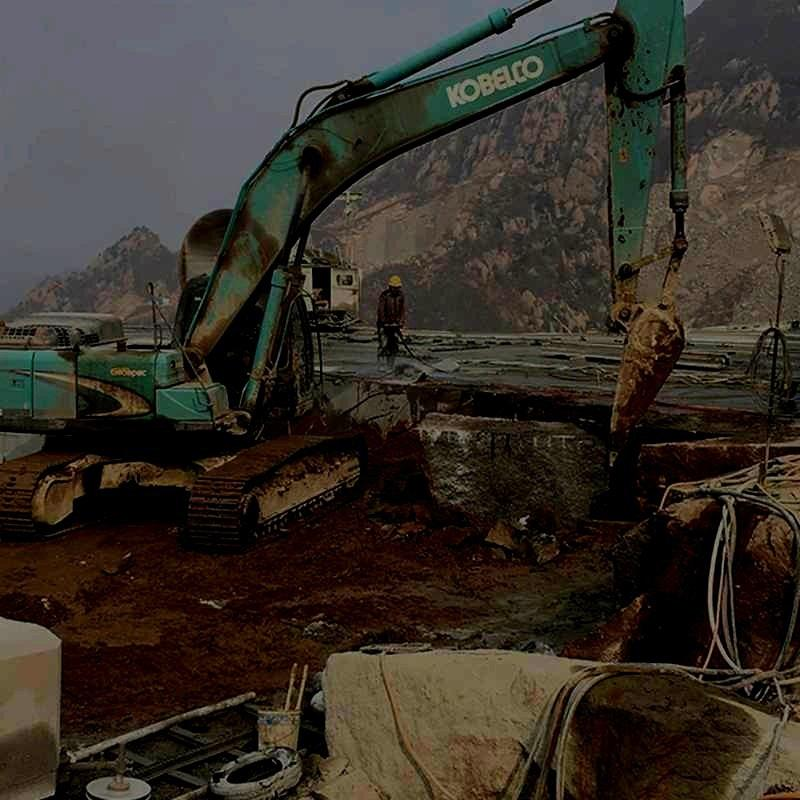helmet: (388, 275, 402, 294)
